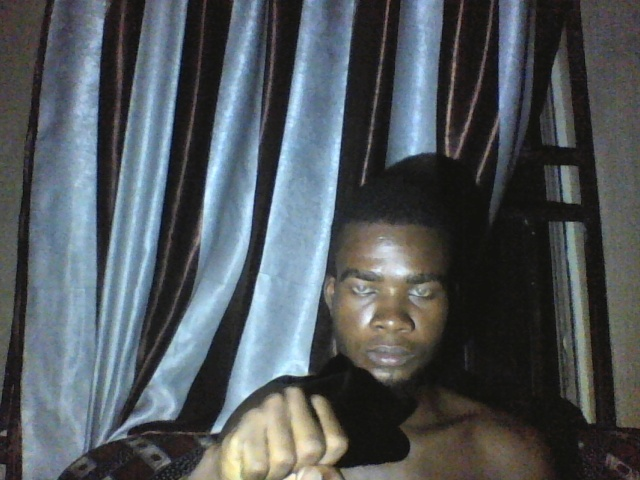yes: (200, 382, 361, 476)
